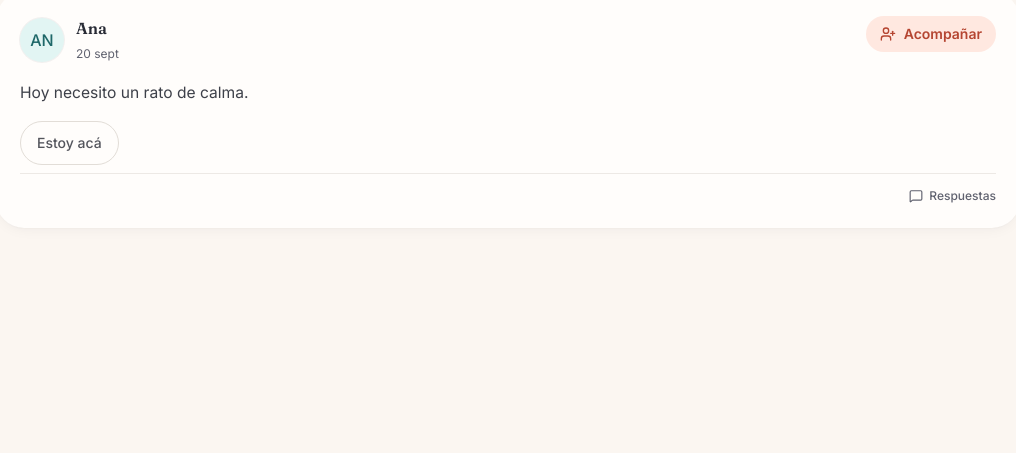
Test case: PostCard responses › selects WITH_YOU and shows the presence count
The width and height of the screenshot is (1016, 453).
Step 1. Click the button "Estoy acá" → (69, 143), box [20,121,119,165]
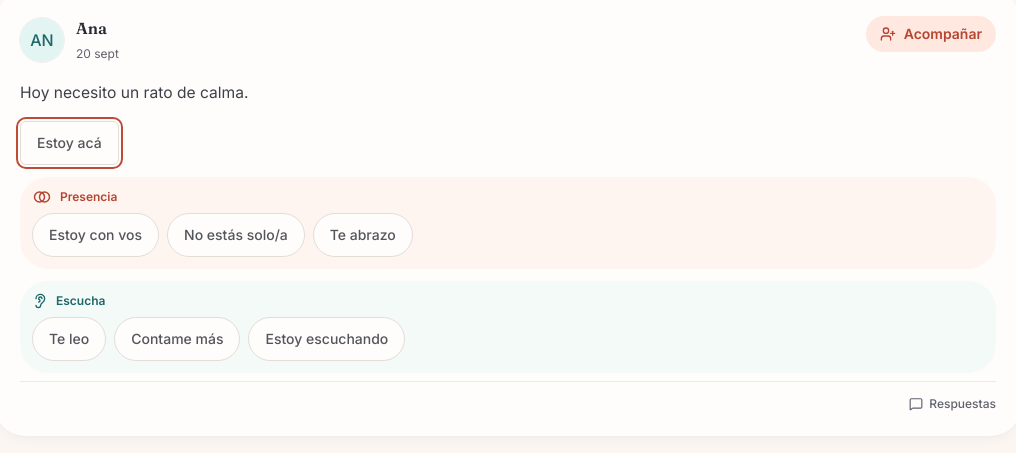
Step 2. Click the button "Estoy con vos" → (96, 235), box [32,213,159,257]
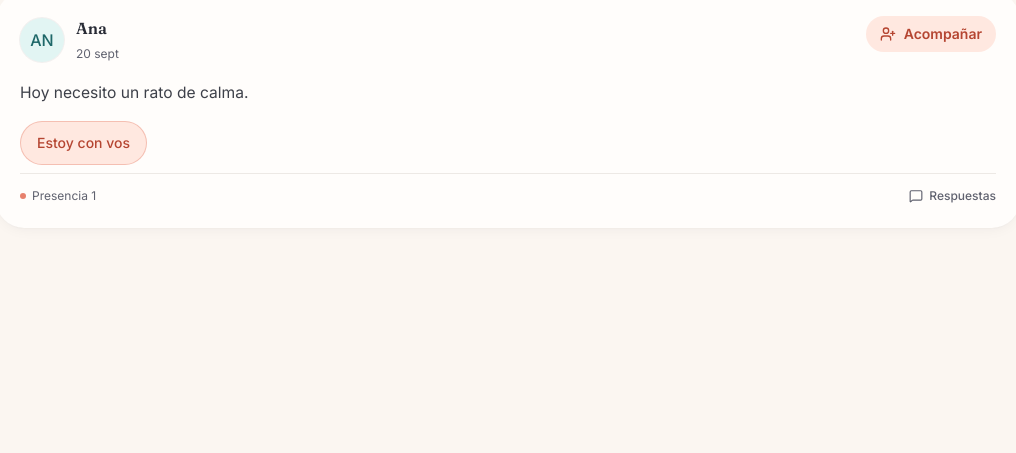
Check: the button "Estoy con vos" is shown, box [20,121,147,165]
Check: the text "Presencia 1" is shown, box [20,188,96,204]
